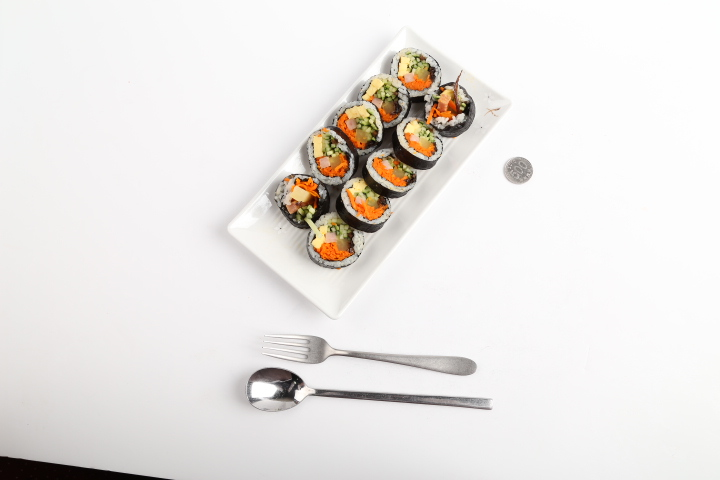dish: (226, 27, 511, 320)
ref_coin: (504, 157, 533, 184)
ref_fork: (261, 335, 336, 363)
ref_spoon: (246, 367, 314, 412)
김밥: (274, 48, 475, 268)
